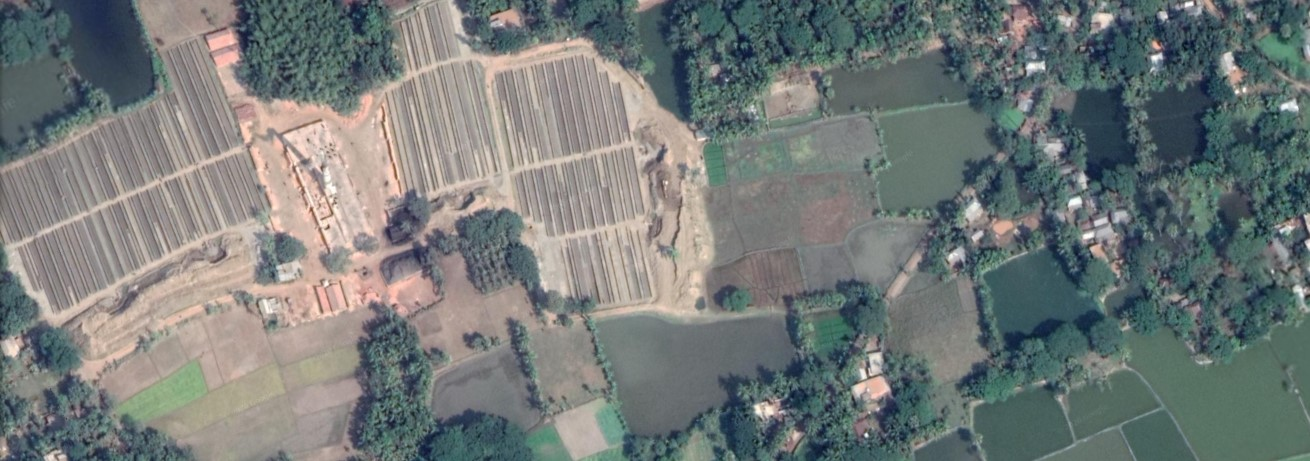kiln: (268, 126, 375, 227)
